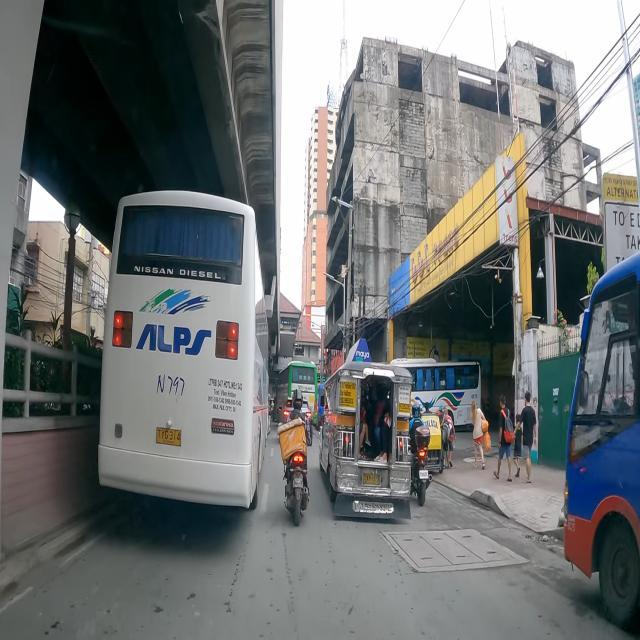bus: (96, 186, 270, 514), (390, 358, 481, 433), (276, 360, 317, 426)
jeepney: (563, 250, 640, 640), (320, 338, 414, 520)
motorcycle: (276, 387, 310, 526), (410, 403, 432, 506)
tricycle: (421, 410, 444, 476)
